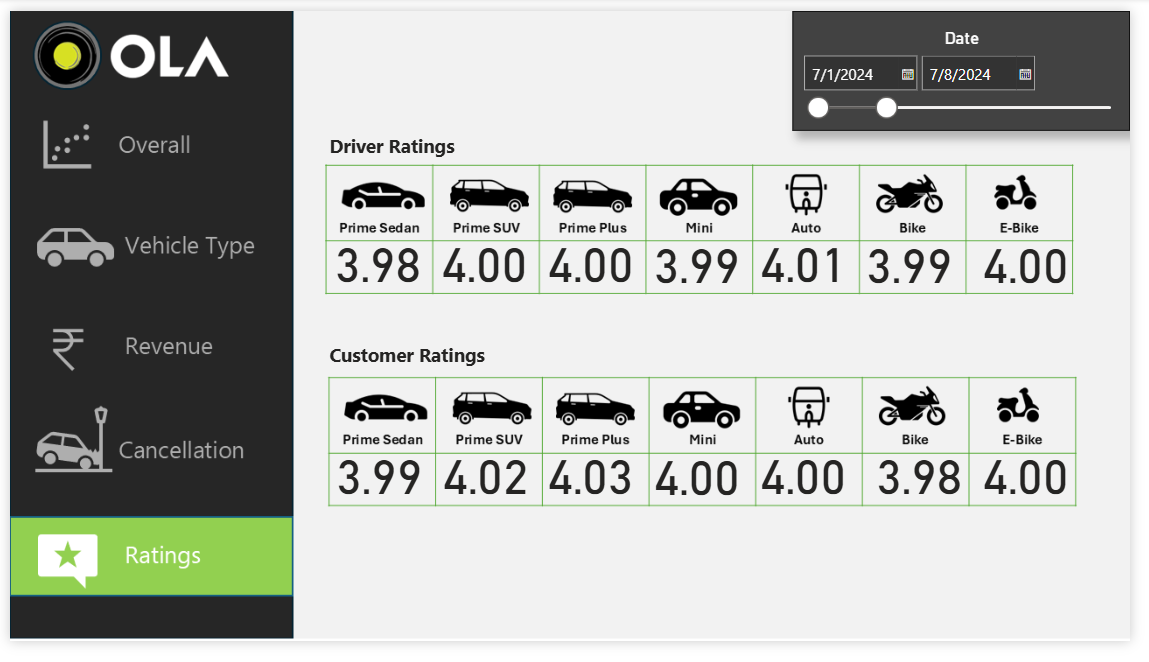

The page's visual inventory and layout, read from the dashboard file:
{"tool":"powerbi","page":{"name":"Ratings","canvas":[1280,720],"ordinal":4},"visuals":[{"type":"actionButton","box":[0,224.3,325.7,92.9],"z":0},{"type":"actionButton","box":[0,338.6,325.7,92.9],"z":1000},{"type":"actionButton","box":[0,445.7,325.7,92.9],"z":2000},{"type":"actionButton","box":[0,577.1,325.7,92.9],"z":3000},{"type":"actionButton","box":[0,107.1,325.7,92.9],"z":4000},{"type":"card","fields":{"Values":["Avg(July (2).Driver_Ratings)"]},"box":[360,250,121.4,67.1],"z":5000},{"type":"card","fields":{"Values":["Avg(July (2).Driver_Ratings)"]},"box":[481.4,250,121.4,67.1],"z":6000},{"type":"card","fields":{"Values":["Avg(July (2).Driver_Ratings)"]},"box":[602.9,250,121.4,67.1],"z":7000},{"type":"card","fields":{"Values":["Avg(July (2).Driver_Ratings)"]},"box":[724.3,251.4,121.4,67.1],"z":8000},{"type":"card","fields":{"Values":["Avg(July (2).Driver_Ratings)"]},"box":[845.7,250,121.4,67.1],"z":9000},{"type":"card","fields":{"Values":["Avg(July (2).Driver_Ratings)"]},"box":[967.1,251.4,121.4,67.1],"z":10000},{"type":"card","fields":{"Values":["Avg(July (2).Driver_Ratings)"]},"box":[1100,251.4,121.4,67.1],"z":11000},{"type":"textbox","box":[360,134.3,182.9,40],"z":12000},{"type":"textbox","box":[360,372.9,201.4,44.3],"z":12001},{"type":"card","fields":{"Values":["Avg(July (2).Customer_Rating)"]},"box":[361.4,492.9,121.4,67.1],"z":12002},{"type":"card","fields":{"Values":["Avg(July (2).Customer_Rating)"]},"box":[482.9,492.9,121.4,67.1],"z":12003},{"type":"card","fields":{"Values":["Avg(July (2).Customer_Rating)"]},"box":[602.9,492.9,121.4,67.1],"z":12004},{"type":"card","fields":{"Values":["Avg(July (2).Customer_Rating)"]},"box":[724.3,494.3,121.4,67.1],"z":12005},{"type":"card","fields":{"Values":["Avg(July (2).Customer_Rating)"]},"box":[845.7,492.9,121.4,67.1],"z":12006},{"type":"card","fields":{"Values":["Avg(July (2).Customer_Rating)"]},"box":[978.6,492.9,121.4,67.1],"z":12007},{"type":"card","fields":{"Values":["Avg(July (2).Customer_Rating)"]},"box":[1100,492.9,121.4,67.1],"z":12008},{"type":"slicer","title":"Date","fields":{"Values":["July (2).Date"]},"box":[894.3,0,385.7,137.1],"z":12009}]}

Visuals, with their boxes in screenshot pixels (x1, y1, x2, y2), scaled from the page's 1280x720 canvas onto the 1149x662 screenshot:
actionButton: 0,206,292,292
actionButton: 0,311,292,397
actionButton: 0,410,292,495
actionButton: 0,531,292,616
actionButton: 0,98,292,184
card - Avg(July (2).Driver_Ratings): 323,230,432,292
card - Avg(July (2).Driver_Ratings): 432,230,541,292
card - Avg(July (2).Driver_Ratings): 541,230,650,292
card - Avg(July (2).Driver_Ratings): 650,231,759,293
card - Avg(July (2).Driver_Ratings): 759,230,868,292
card - Avg(July (2).Driver_Ratings): 868,231,977,293
card - Avg(July (2).Driver_Ratings): 987,231,1096,293
textbox: 323,123,487,160
textbox: 323,343,504,384
card - Avg(July (2).Customer_Rating): 324,453,433,515
card - Avg(July (2).Customer_Rating): 433,453,542,515
card - Avg(July (2).Customer_Rating): 541,453,650,515
card - Avg(July (2).Customer_Rating): 650,454,759,516
card - Avg(July (2).Customer_Rating): 759,453,868,515
card - Avg(July (2).Customer_Rating): 878,453,987,515
card - Avg(July (2).Customer_Rating): 987,453,1096,515
"Date" slicer: 803,0,1148,126
